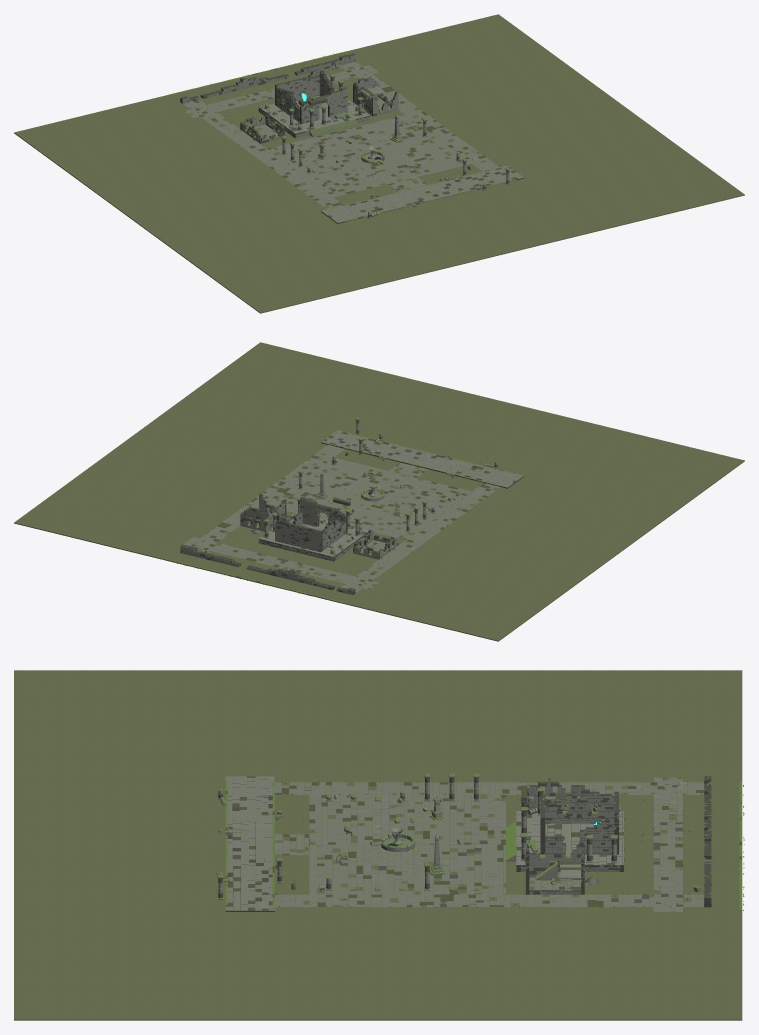
Rendered from ruin_city_centre.glb.
3 views of the same model, one above another, from view 1: azimuth 30°, elevation 25°; view 2: azimuth 150°, elevation 25°; view 3: azimuth 270°, elevation 25° (orthographic). The views are drawn at different scales.
Parts seen in each view (by area): view 1: ruin_city_centre.001; view 2: ruin_city_centre.001; view 3: ruin_city_centre.001.
Part boxes in pixels (x1,y1,x2,y2): ruin_city_centre.001: (14,14,744,313); ruin_city_centre.001: (14,342,744,641); ruin_city_centre.001: (14,670,744,1020).
Size of what is drawn, in the model's own units: 168 by 10.33 by 149.
15 materials, 14 textured.
